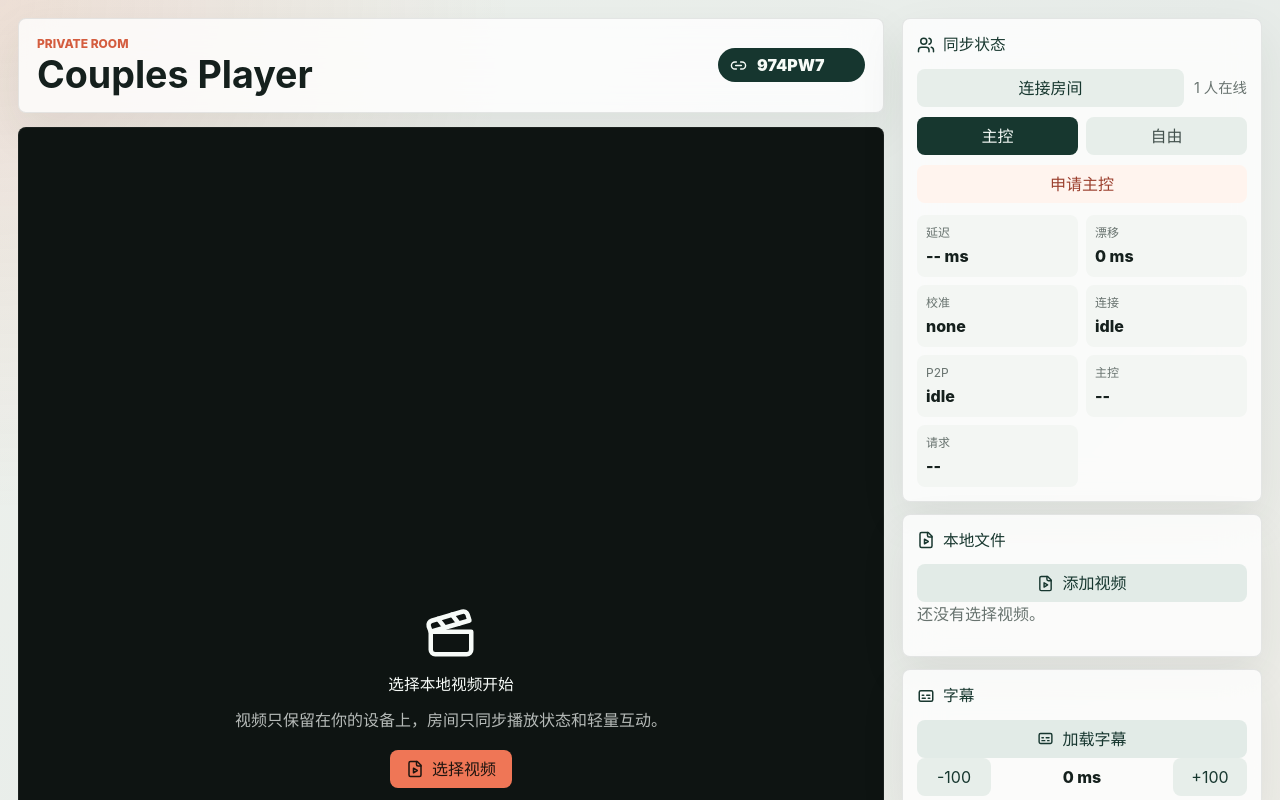
it: App › updates subtitle offset controls
Click the button "+100". click: (1210, 777)
box: left=1173, top=758, right=1247, bottom=796
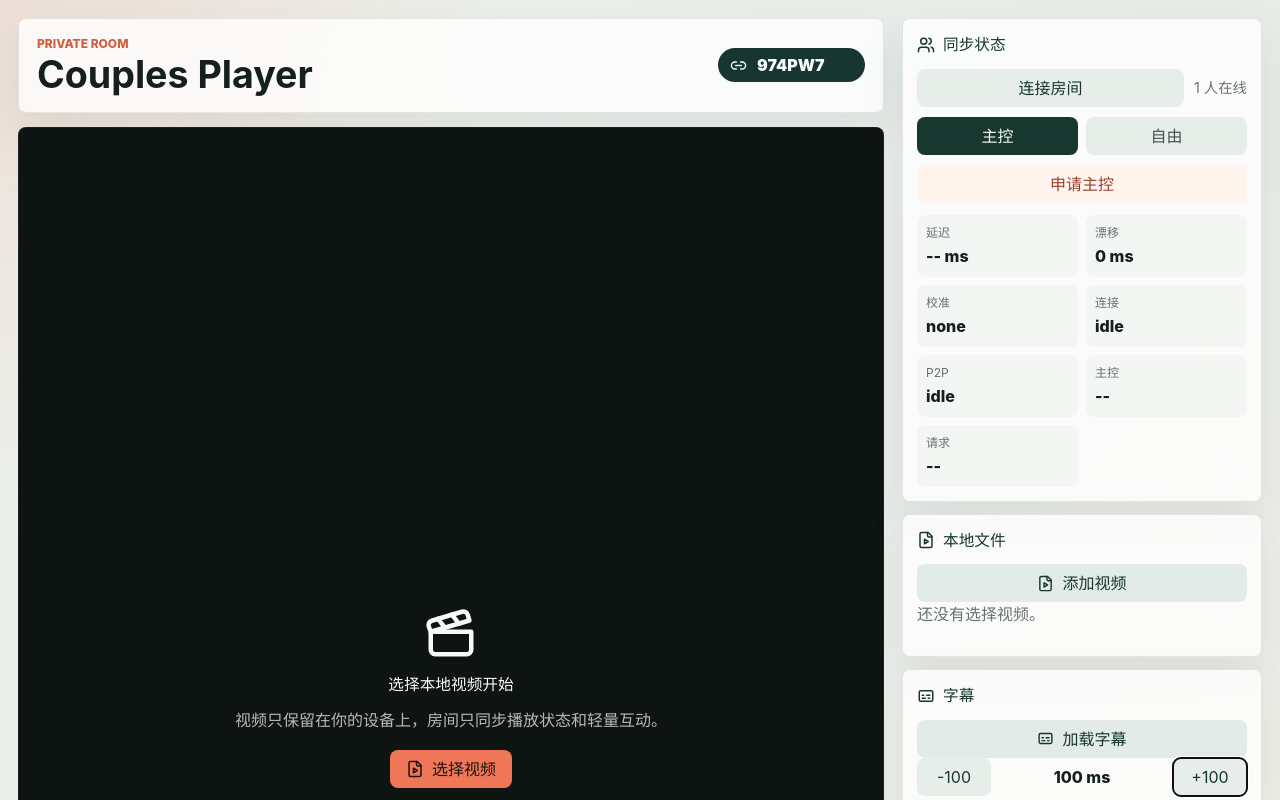
Result: the text "100 ms" is shown at left=1054, top=767, right=1110, bottom=787
